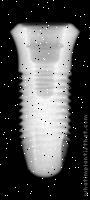Anthogyr: (10, 24, 80, 180)
